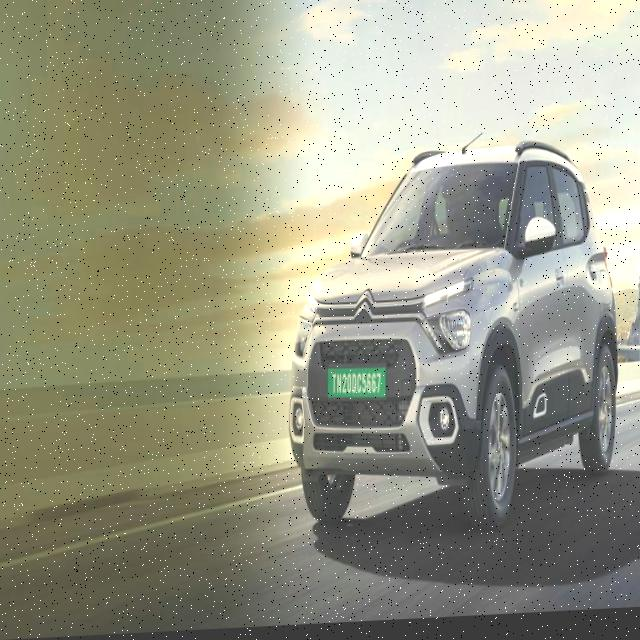plate: (325, 367, 386, 404)
